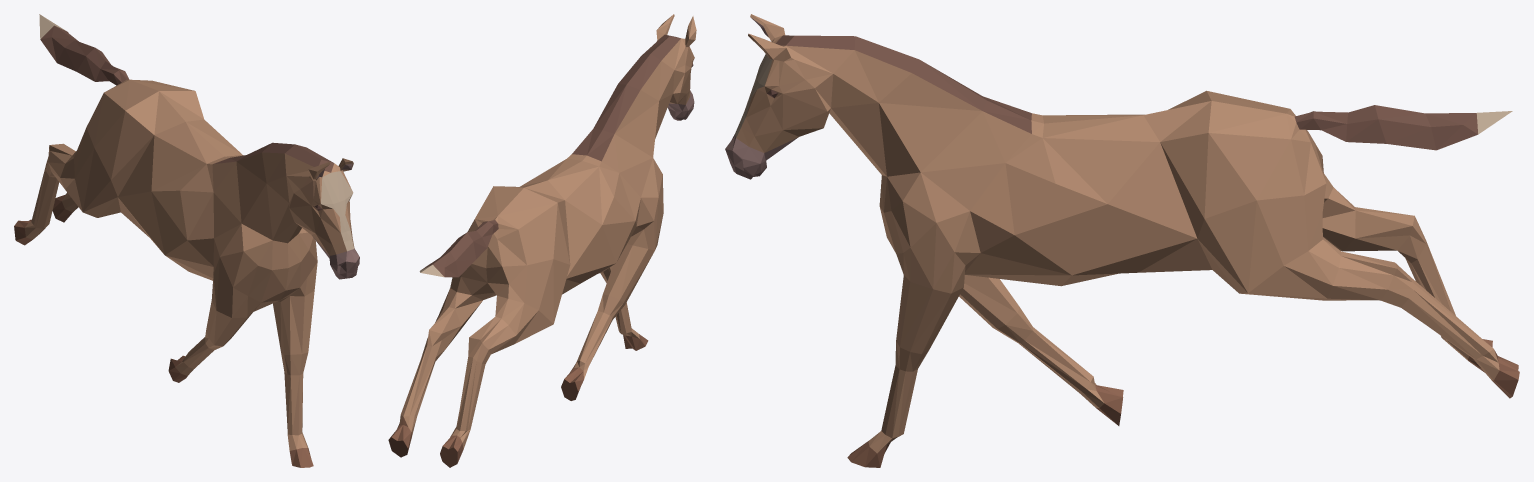
The picture shows the model from 3 angles, left to right: view 1: azimuth 30°, elevation 25°; view 2: azimuth 150°, elevation 25°; view 3: azimuth 270°, elevation 25°; orthographic projection. The views are drawn at different scales.
Parts seen in each view (by area): view 1: mesh_0; view 2: mesh_0; view 3: mesh_0.
Part boxes in pixels (<box>): mesh_0: <box>14,14,359,467</box>; mesh_0: <box>388,14,696,467</box>; mesh_0: <box>725,14,1519,467</box>.
Size of the model in its own units: 63.53 by 184 by 302.
